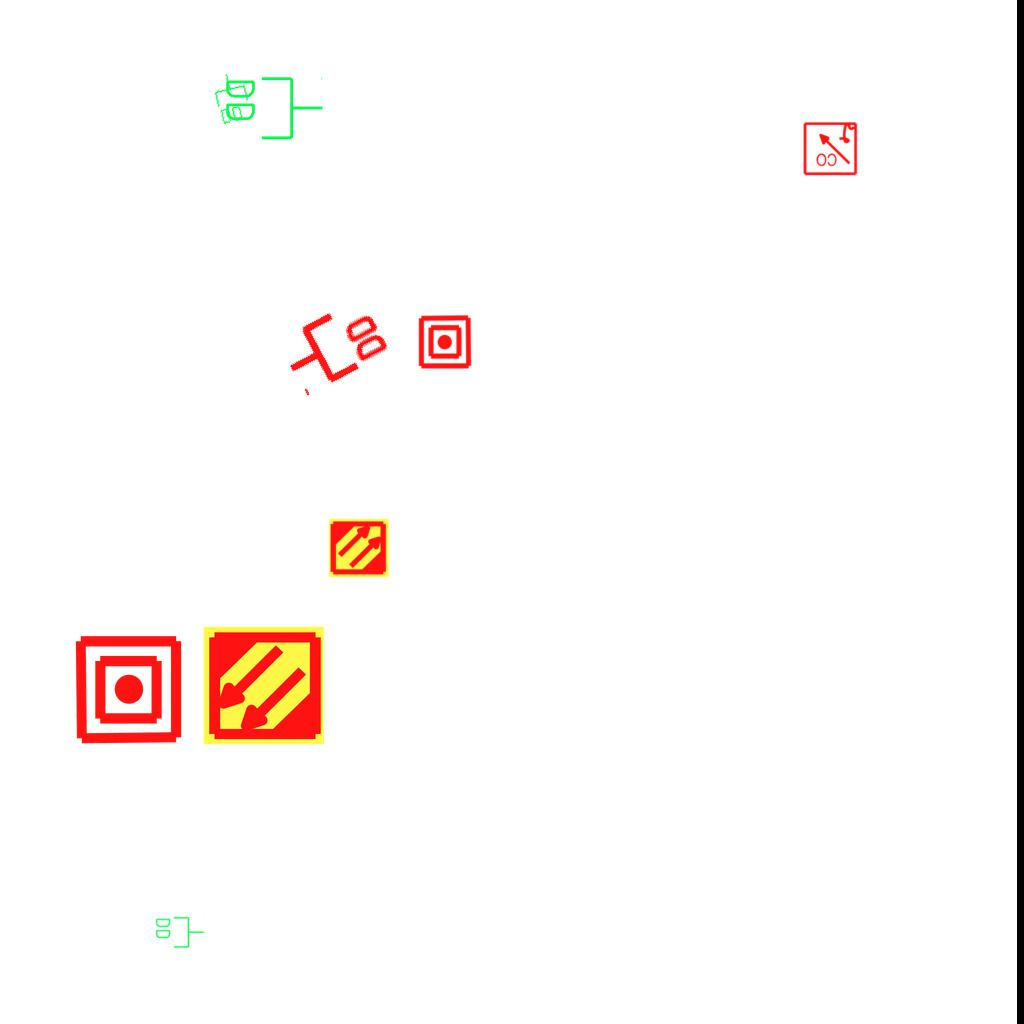ASR_Ansaugrauchmelder: (201, 623, 326, 748), (328, 517, 390, 579)
Datenanschluss_zweifach: (271, 289, 396, 400), (222, 73, 325, 142), (209, 69, 254, 127), (154, 915, 205, 949)
NAM-Nichtautomatischer_Melder: (72, 633, 185, 746), (417, 314, 473, 370)
ROA_Rauchmelder_optisch_mit_Signalgeber_(Sockelsirene): (802, 120, 858, 176)
